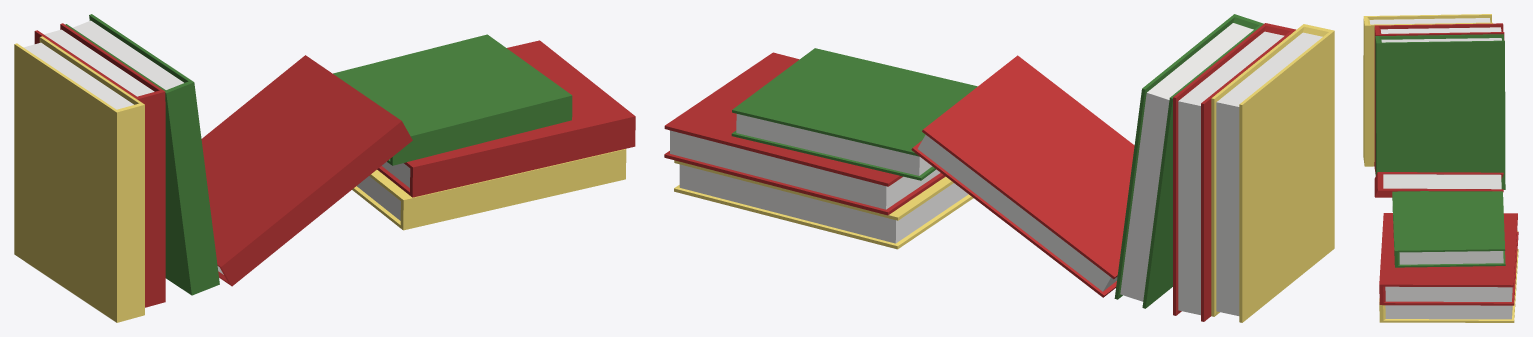
The model's file is Books_2.fbx.
3 views of the same model, side by side, from view 1: azimuth 30°, elevation 25°; view 2: azimuth 150°, elevation 25°; view 3: azimuth 270°, elevation 25° (orthographic). The views are drawn at different scales.
Visible parts, largest first — view 1: Books_2; view 2: Books_2; view 3: Books_2.
Part boxes in pixels (<box>): Books_2: <box>14,14,635,322</box>; Books_2: <box>664,14,1334,322</box>; Books_2: <box>1363,14,1518,322</box>.
Size of the model in its own units: 99.43 by 36.8 by 37.62.
